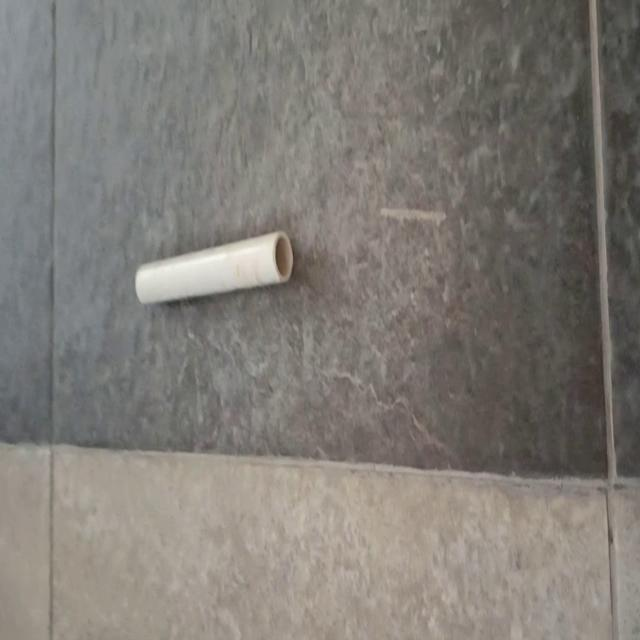Cube: (134, 228, 294, 306)
